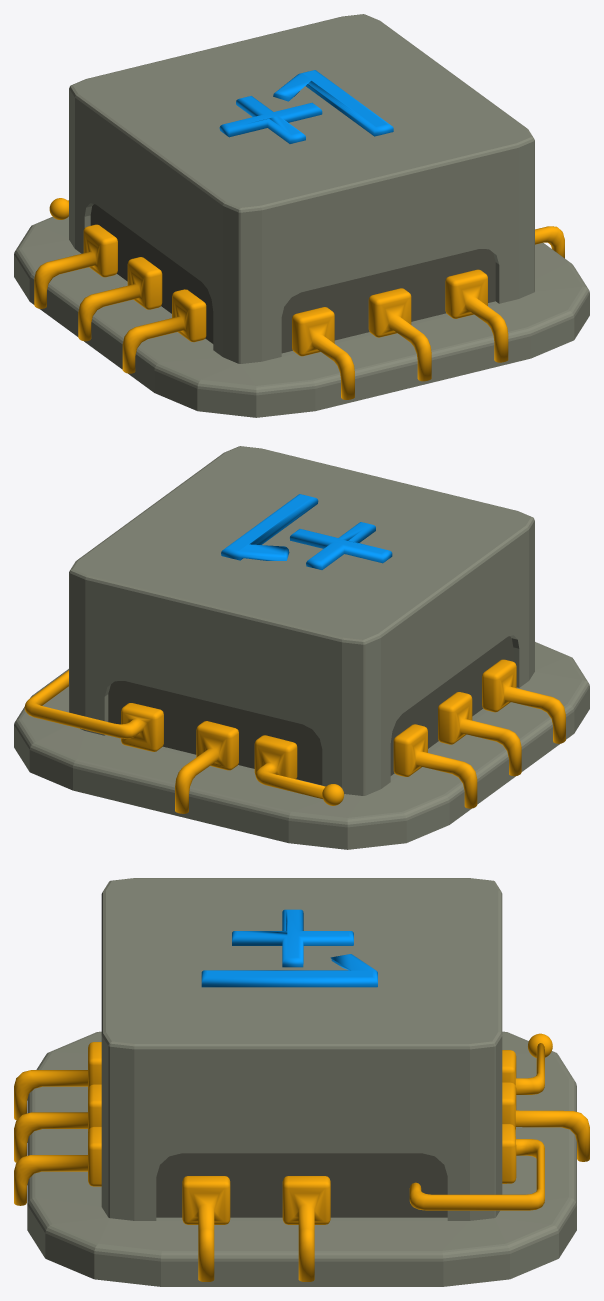
The picture shows the model from 3 angles, top to bottom: view 1: azimuth 30°, elevation 25°; view 2: azimuth 150°, elevation 25°; view 3: azimuth 270°, elevation 25°; orthographic projection. The views are drawn at different scales.
Parts seen in each view (by area): view 1: Cube, Cube.001, Text; view 2: Cube, Cube.001, Text; view 3: Cube, Cube.001, Text.
Boxes of the visible parts, x1,y1,x2,y2 form: Cube: [14, 14, 589, 417]; Cube.001: [34, 198, 564, 399]; Text: [219, 70, 393, 143]; Cube: [14, 446, 589, 849]; Cube.001: [24, 659, 565, 813]; Text: [221, 494, 392, 569]; Cube: [27, 878, 576, 1286]; Cube.001: [14, 1033, 589, 1281]; Text: [201, 909, 377, 987].
Bounding box in the file's own units: 1.61 × 0.673 × 1.61.
